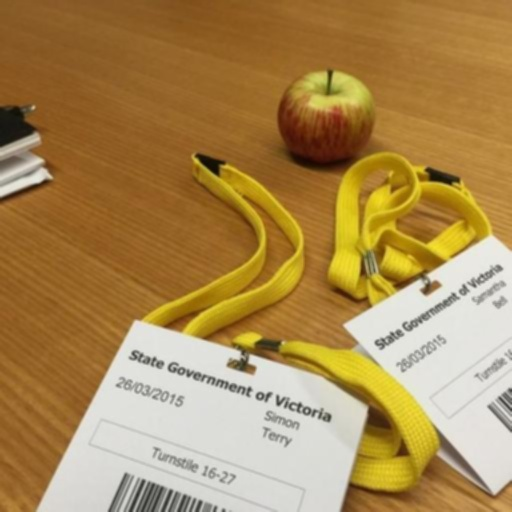fruit: (133, 52, 424, 204)
